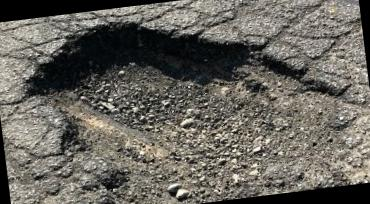pothole: (15, 0, 350, 204)
